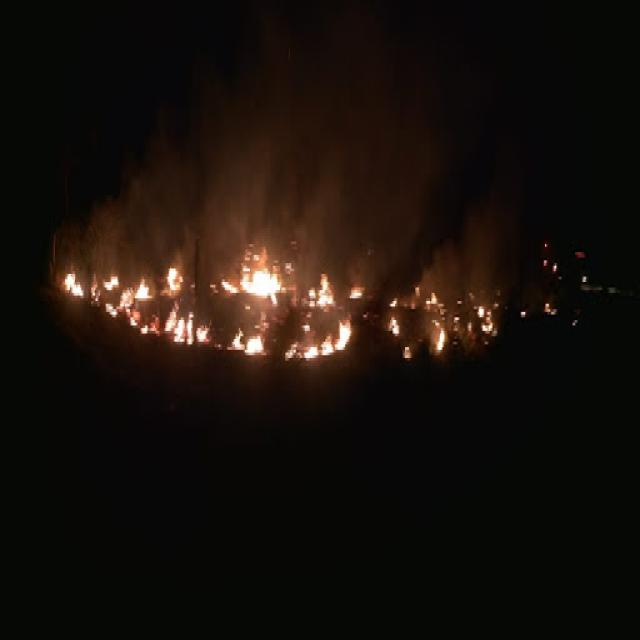Fire: (281, 318, 355, 360), (225, 258, 283, 306), (105, 274, 151, 334), (165, 312, 210, 344), (231, 320, 265, 360), (165, 255, 185, 301), (58, 263, 84, 296), (432, 320, 448, 353)
